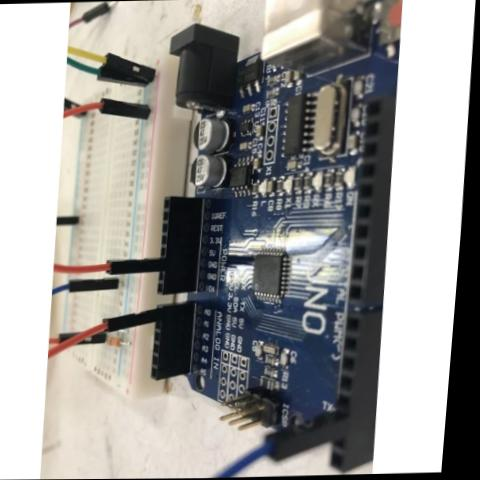Arduino-Uno: (140, 0, 410, 479)
